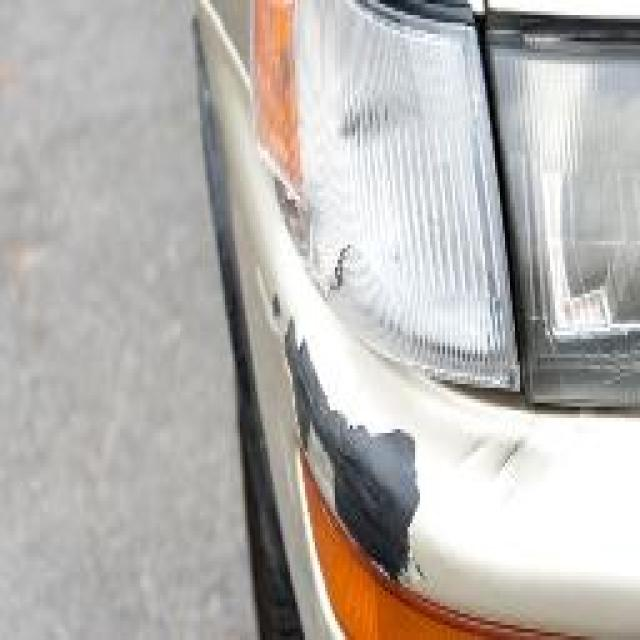Bumper: (253, 272, 574, 632)
Light: (256, 77, 455, 351)
